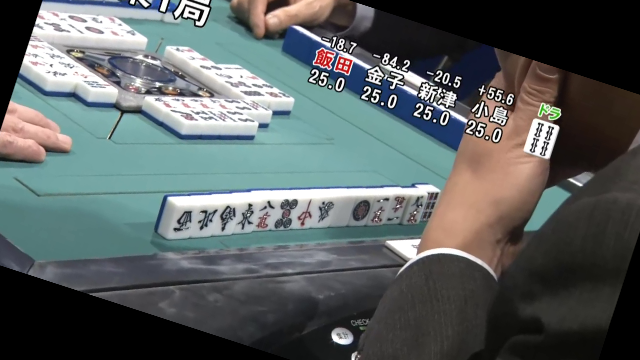Tehai: (162, 183, 440, 238)
